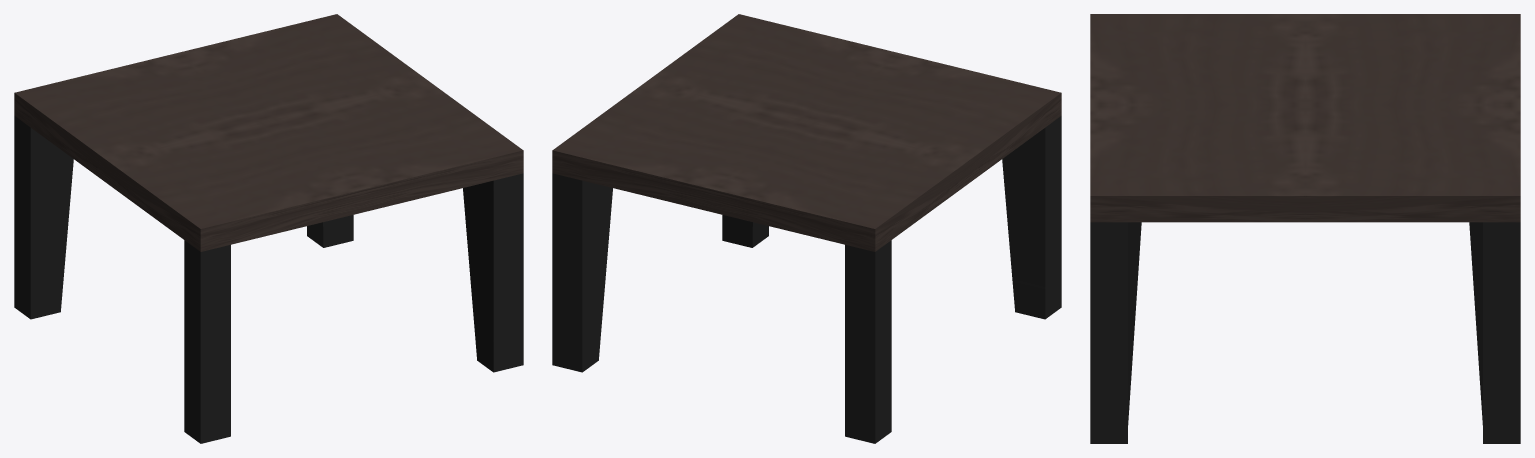
Rendered from table_small.fbx.
The picture shows the model from 3 angles, left to right: view 1: azimuth 30°, elevation 25°; view 2: azimuth 150°, elevation 25°; view 3: azimuth 270°, elevation 25°; orthographic projection. The views are drawn at different scales.
Visible parts, largest first — view 1: Cube.002; view 2: Cube.002; view 3: Cube.002.
Boxes of the visible parts, x1=… form: Cube.002: x1=14, y1=14, x2=523, y2=443; Cube.002: x1=552, y1=14, x2=1061, y2=443; Cube.002: x1=1090, y1=14, x2=1520, y2=443.
Size of the model in its own units: 200 by 127 by 200.
2 materials, 2 textured.
